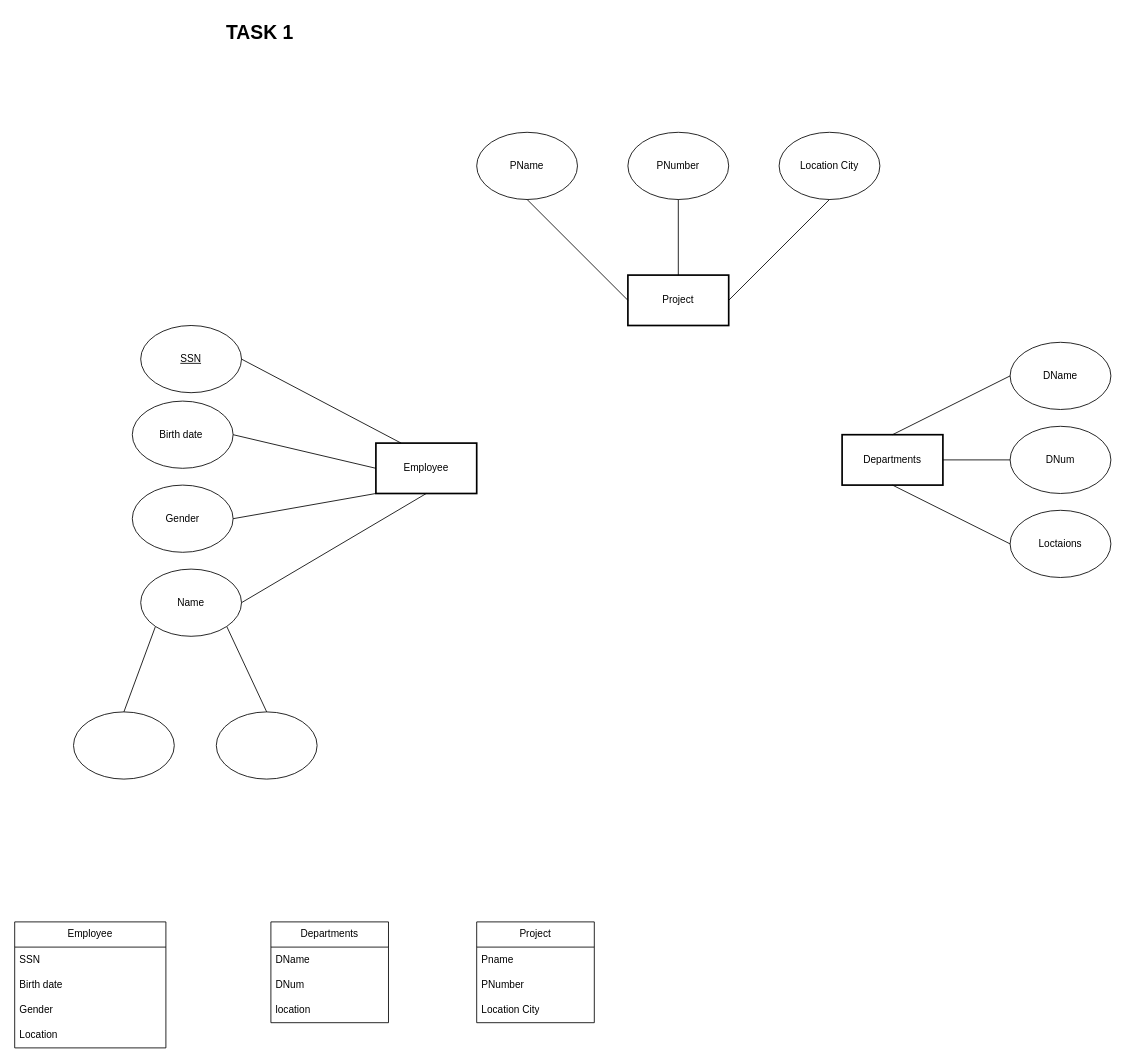
Image size: 1126x1063. Some labels were removed from this diagram. The shapes that lost their labels are listed below. From the top down, each one's centre as x and y in pixels, then its label:
(123,745): FName
(266,745): LName
